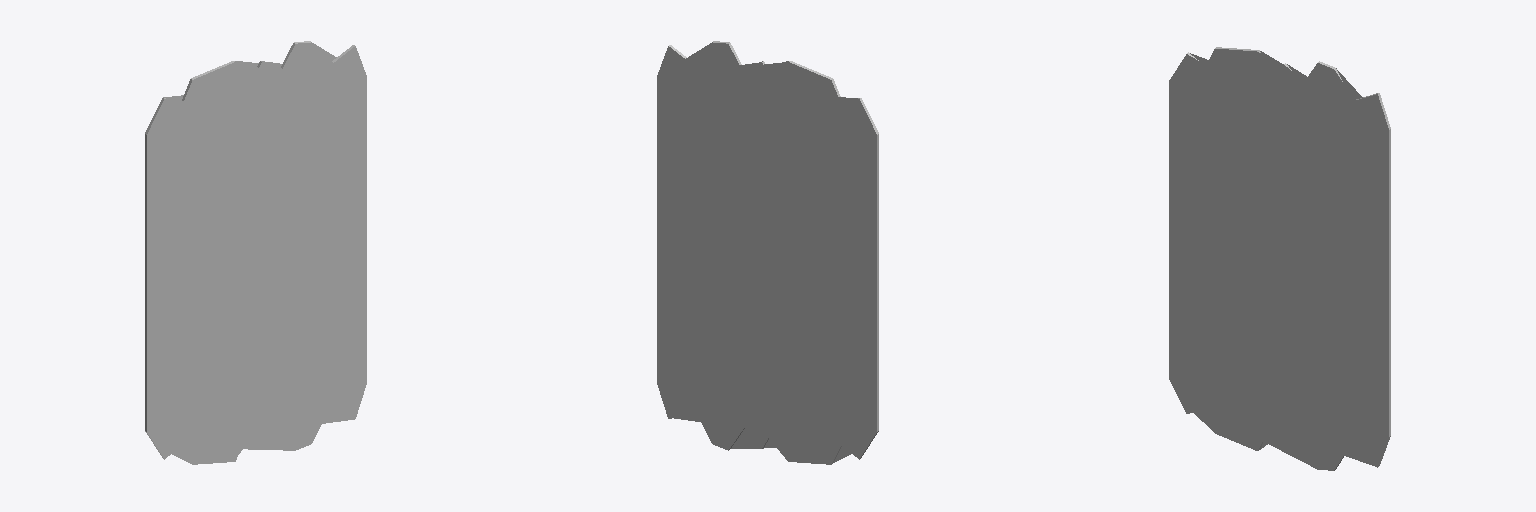
File: Broken Window Pieces.obj
The picture shows the model from 3 angles: view 1: azimuth 30°, elevation 25°; view 2: azimuth 150°, elevation 25°; view 3: azimuth 330°, elevation 25°; orthographic projection.
Parts seen in each view (by area): view 1: Broken_Window_Parts_cell.019_Mesh.013, Broken_Window_Parts_Cube.001, Broken_Window_Parts_cell.004_Mesh.003, Broken_Window_Parts_cell.013_Mesh.009, Broken_Window_Parts_cell.018_Mesh.012, Broken_Window_Parts_cell.005_Mesh.004, Broken_Window_Parts_cell_Mesh, Broken_Window_Parts_cell.008_Mesh.005; view 2: Broken_Window_Parts_Cube.001, Broken_Window_Parts_cell.004_Mesh.003, Broken_Window_Parts_cell.019_Mesh.013, Broken_Window_Parts_cell.018_Mesh.012, Broken_Window_Parts_cell.005_Mesh.004, Broken_Window_Parts_cell.013_Mesh.009, Broken_Window_Parts_cell_Mesh, Broken_Window_Parts_cell.008_Mesh.005; view 3: Broken_Window_Parts_Cube.001, Broken_Window_Parts_cell.019_Mesh.013, Broken_Window_Parts_cell.004_Mesh.003, Broken_Window_Parts_cell.013_Mesh.009, Broken_Window_Parts_cell.018_Mesh.012, Broken_Window_Parts_cell.005_Mesh.004, Broken_Window_Parts_cell_Mesh, Broken_Window_Parts_cell.008_Mesh.005.
Boxes of the visible parts, box(x1,y1,x2,y2) form: Broken_Window_Parts_cell.019_Mesh.013: box(156, 270, 366, 464); Broken_Window_Parts_Cube.001: box(145, 43, 366, 464); Broken_Window_Parts_cell.004_Mesh.003: box(183, 41, 366, 240); Broken_Window_Parts_cell.013_Mesh.009: box(260, 97, 366, 257); Broken_Window_Parts_cell.018_Mesh.012: box(145, 104, 231, 331); Broken_Window_Parts_cell.005_Mesh.004: box(145, 273, 244, 445); Broken_Window_Parts_cell_Mesh: box(262, 234, 366, 303); Broken_Window_Parts_cell.008_Mesh.005: box(160, 98, 252, 252); Broken_Window_Parts_Cube.001: box(657, 76, 878, 464); Broken_Window_Parts_cell.004_Mesh.003: box(657, 41, 840, 245); Broken_Window_Parts_cell.019_Mesh.013: box(657, 270, 868, 464); Broken_Window_Parts_cell.018_Mesh.012: box(786, 106, 878, 330); Broken_Window_Parts_cell.005_Mesh.004: box(777, 270, 878, 446); Broken_Window_Parts_cell.013_Mesh.009: box(657, 100, 763, 254); Broken_Window_Parts_cell_Mesh: box(657, 232, 759, 303); Broken_Window_Parts_cell.008_Mesh.005: box(771, 98, 865, 250); Broken_Window_Parts_Cube.001: box(1169, 49, 1390, 469); Broken_Window_Parts_cell.019_Mesh.013: box(1179, 275, 1390, 470); Broken_Window_Parts_cell.004_Mesh.003: box(1207, 47, 1390, 243); Broken_Window_Parts_cell.013_Mesh.009: box(1282, 150, 1390, 286); Broken_Window_Parts_cell.018_Mesh.012: box(1169, 62, 1254, 278); Broken_Window_Parts_cell.005_Mesh.004: box(1169, 266, 1266, 396); Broken_Window_Parts_cell_Mesh: box(1284, 261, 1390, 357); Broken_Window_Parts_cell.008_Mesh.005: box(1184, 52, 1274, 249).
Size of the model in its own units: 2 by 3.53 by 0.03.